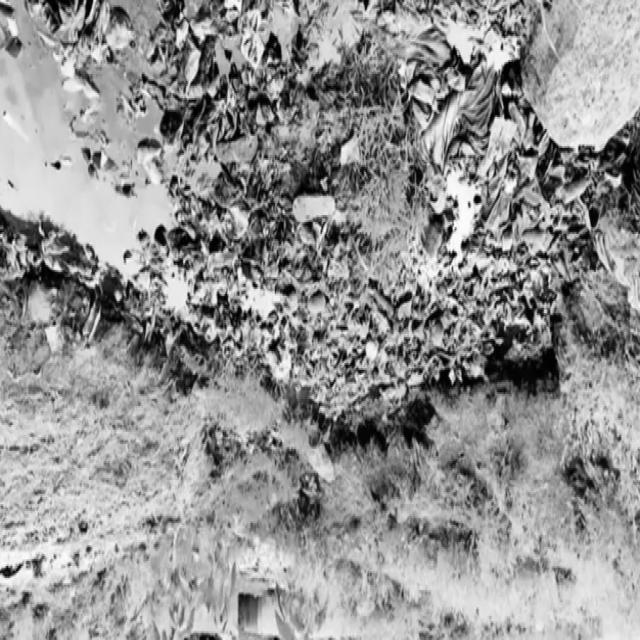Breeding Place: (0, 1, 576, 414)
